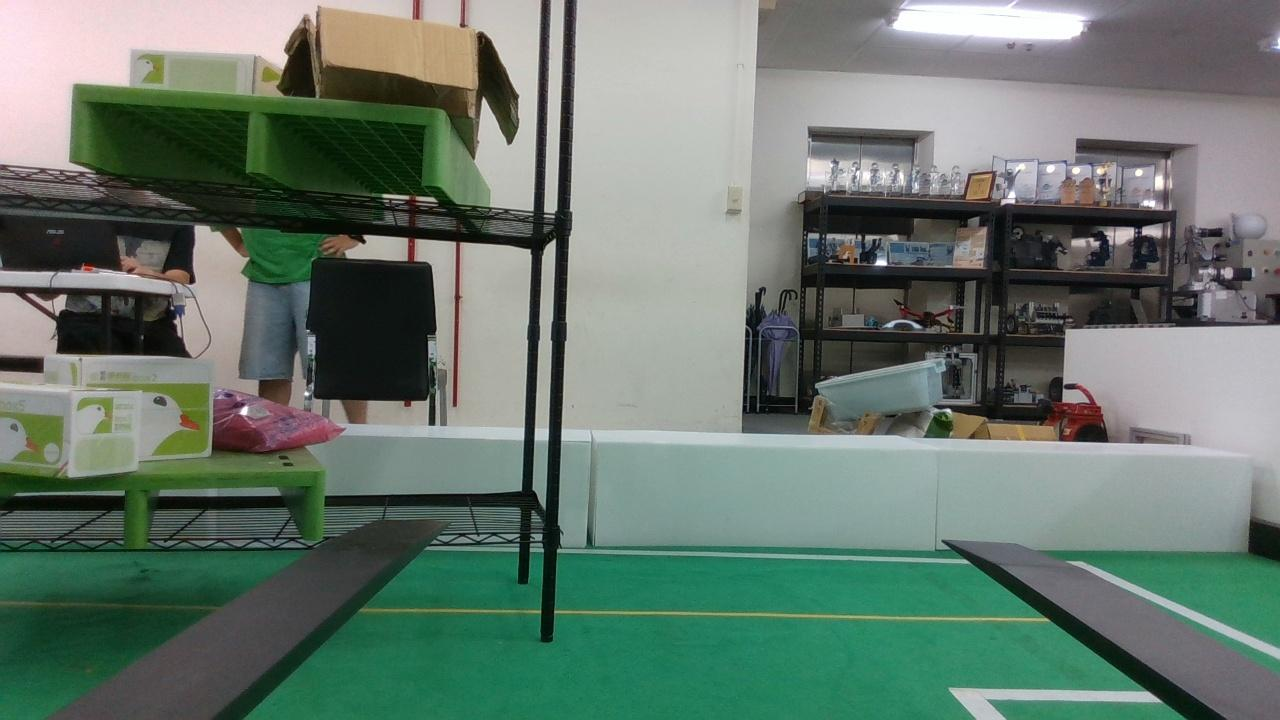Pallet: (65, 79, 452, 190)
